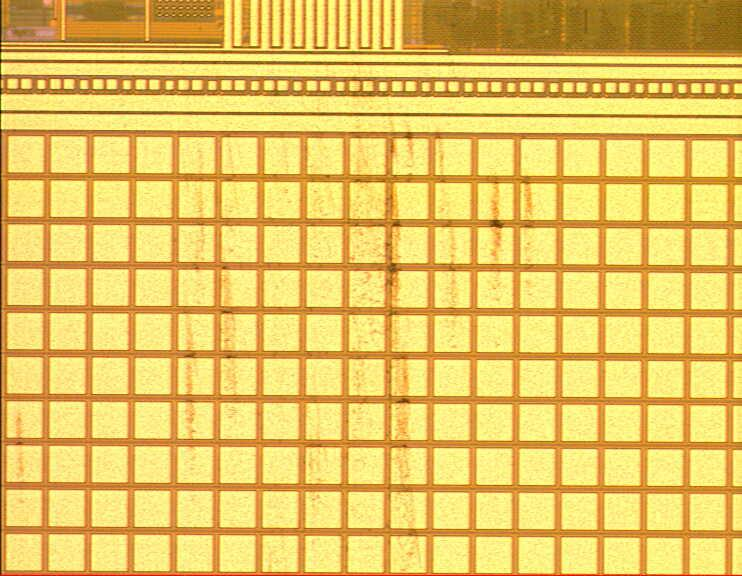SCRATCH: (119, 100, 548, 576)
